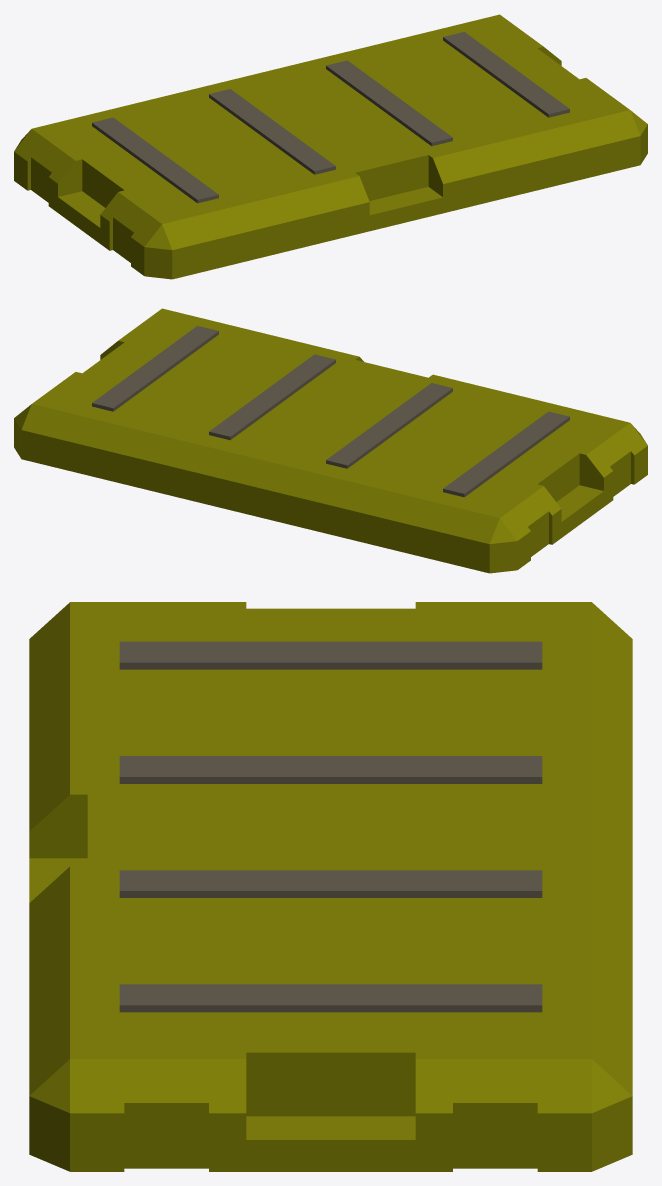
File: BigAmoBox_01_2.fbx
The picture shows the model from 3 angles, top to bottom: view 1: azimuth 30°, elevation 25°; view 2: azimuth 150°, elevation 25°; view 3: azimuth 270°, elevation 25°; orthographic projection. The views are drawn at different scales.
Visible parts, largest first — view 1: BigAmoBox_01_2; view 2: BigAmoBox_01_2; view 3: BigAmoBox_01_2.
Boxes of the visible parts, x1=… form: BigAmoBox_01_2: x1=14, y1=14, x2=647, y2=279; BigAmoBox_01_2: x1=14, y1=308, x2=647, y2=573; BigAmoBox_01_2: x1=29, y1=602, x2=632, y2=1171.
Size of the model in its own units: 0.9434 by 0.0918 by 0.4897.
